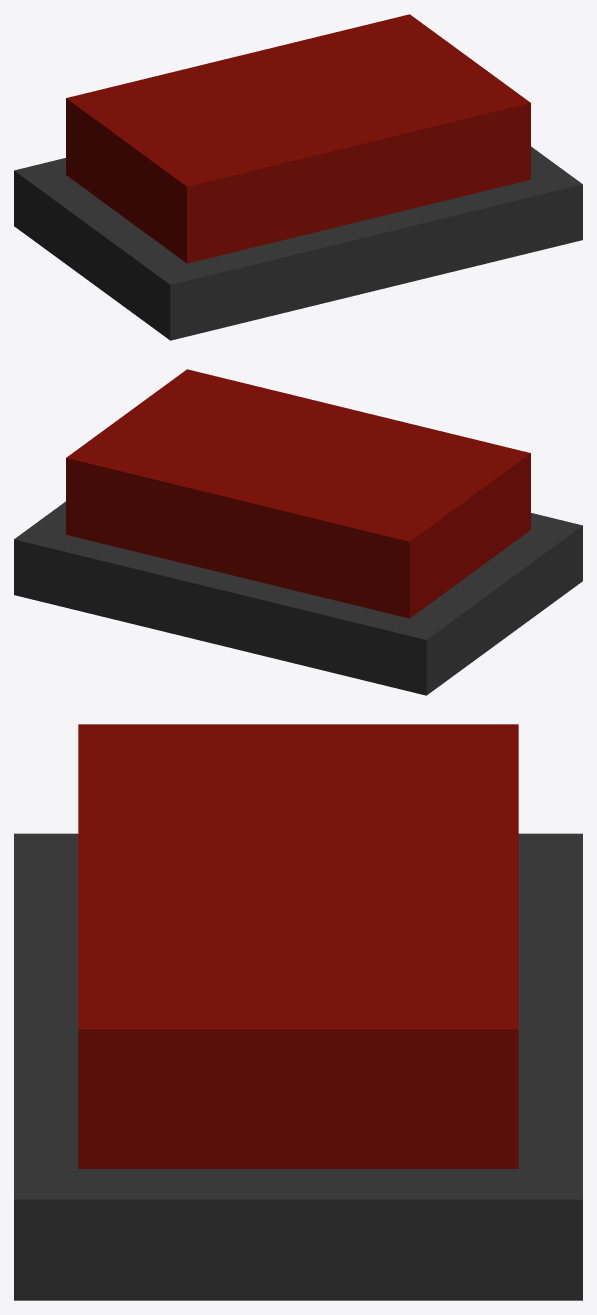
Rendered from button.glb.
3 renders of one model, top to bottom at view 1: azimuth 30°, elevation 25°; view 2: azimuth 150°, elevation 25°; view 3: azimuth 270°, elevation 25°, orthographic. The views are drawn at different scales.
Visible parts, largest first — view 1: button, base; view 2: button, base; view 3: button, base.
Boxes of the visible parts, x1,y1,x2,y2 form: button: (66, 14, 530, 263); base: (14, 146, 582, 340); button: (66, 369, 530, 618); base: (14, 501, 582, 695); button: (78, 724, 518, 1168); base: (14, 833, 582, 1300).
Size of the model in its own units: 2 by 0.6144 by 1.31.
